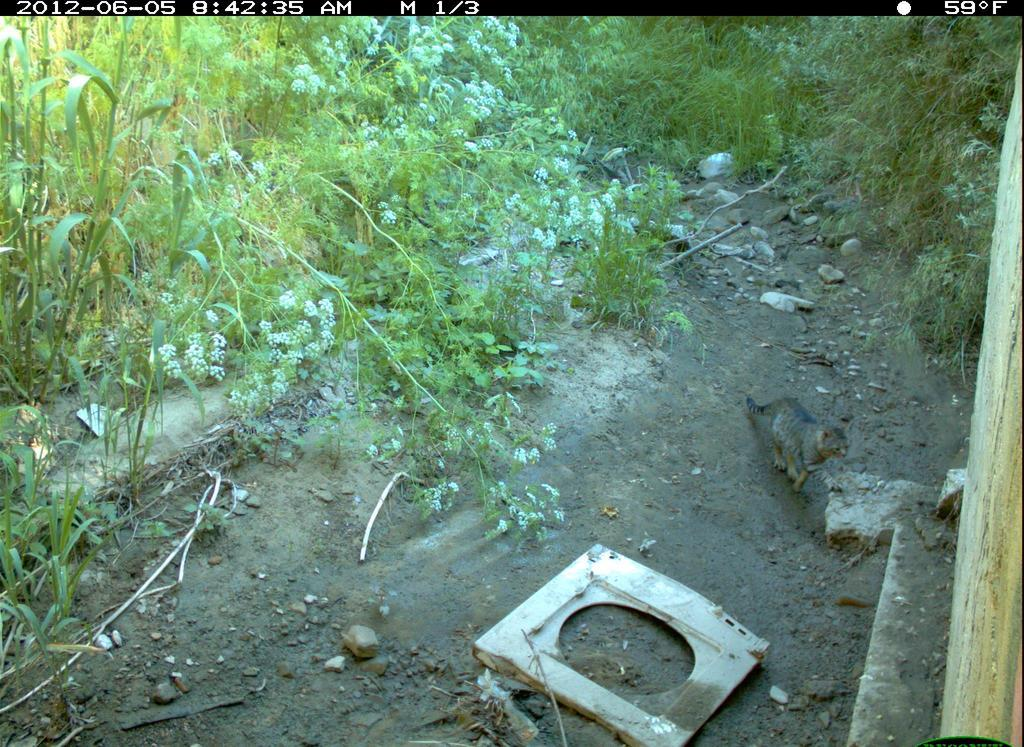cat: (724, 367, 859, 509)
